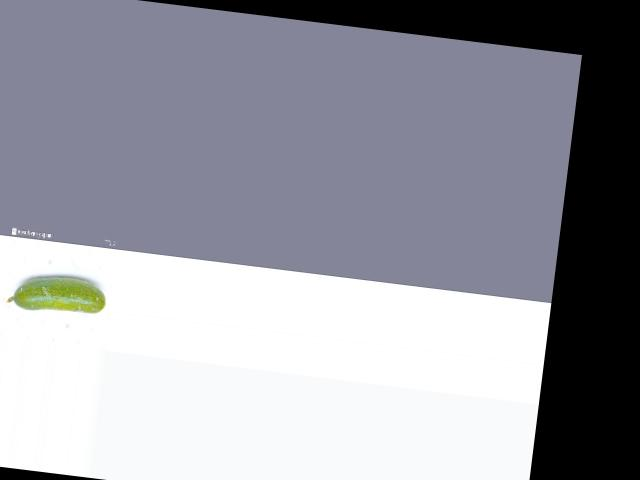cucumber: (6, 270, 109, 319)
